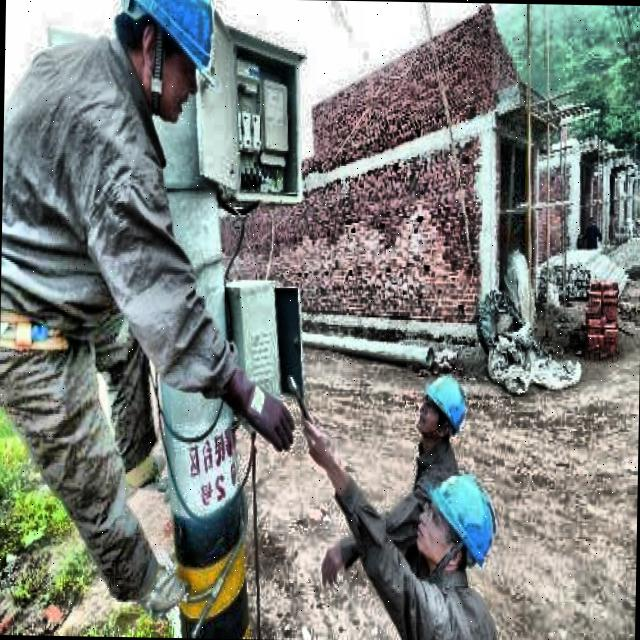helmet: (113, 0, 220, 135), (401, 460, 506, 584), (419, 371, 470, 448)
